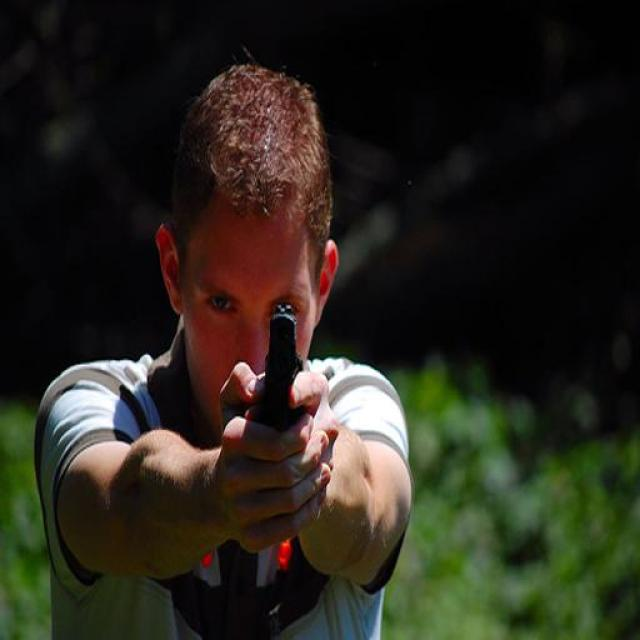pistol: (265, 303, 301, 428)
